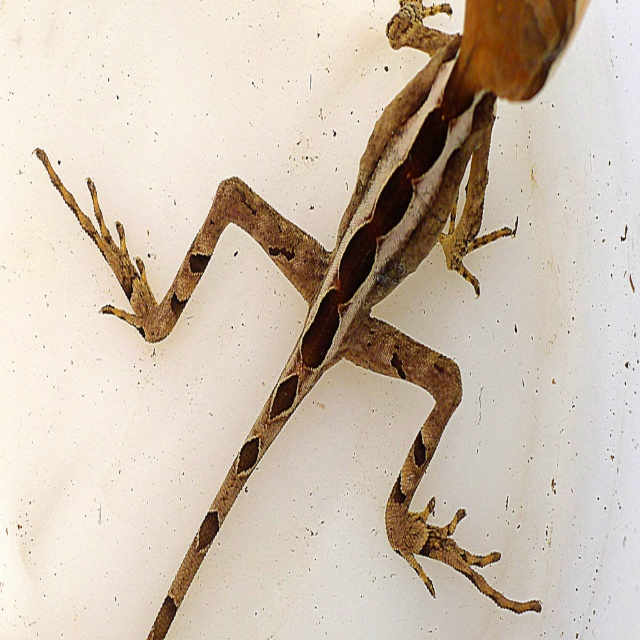Lizard: (37, 4, 590, 638)
